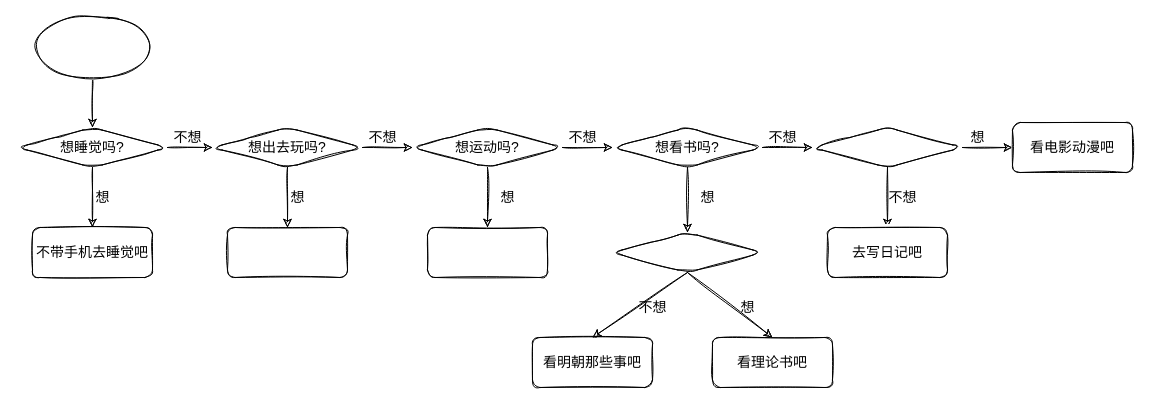
This 1150x405 diagram has some shape labels left out. Each missing label, with the box of its shape:
以自己的疲惫状态为准做广播体操: (426, 226, 548, 278)
想思考吗?: (612, 232, 762, 272)
想看视频类的吗?: (812, 126, 962, 168)
戴着帽子口罩出去走走吧, 晚上就不出门了: (226, 226, 348, 278)
有空了开心一下: (32, 16, 152, 78)
